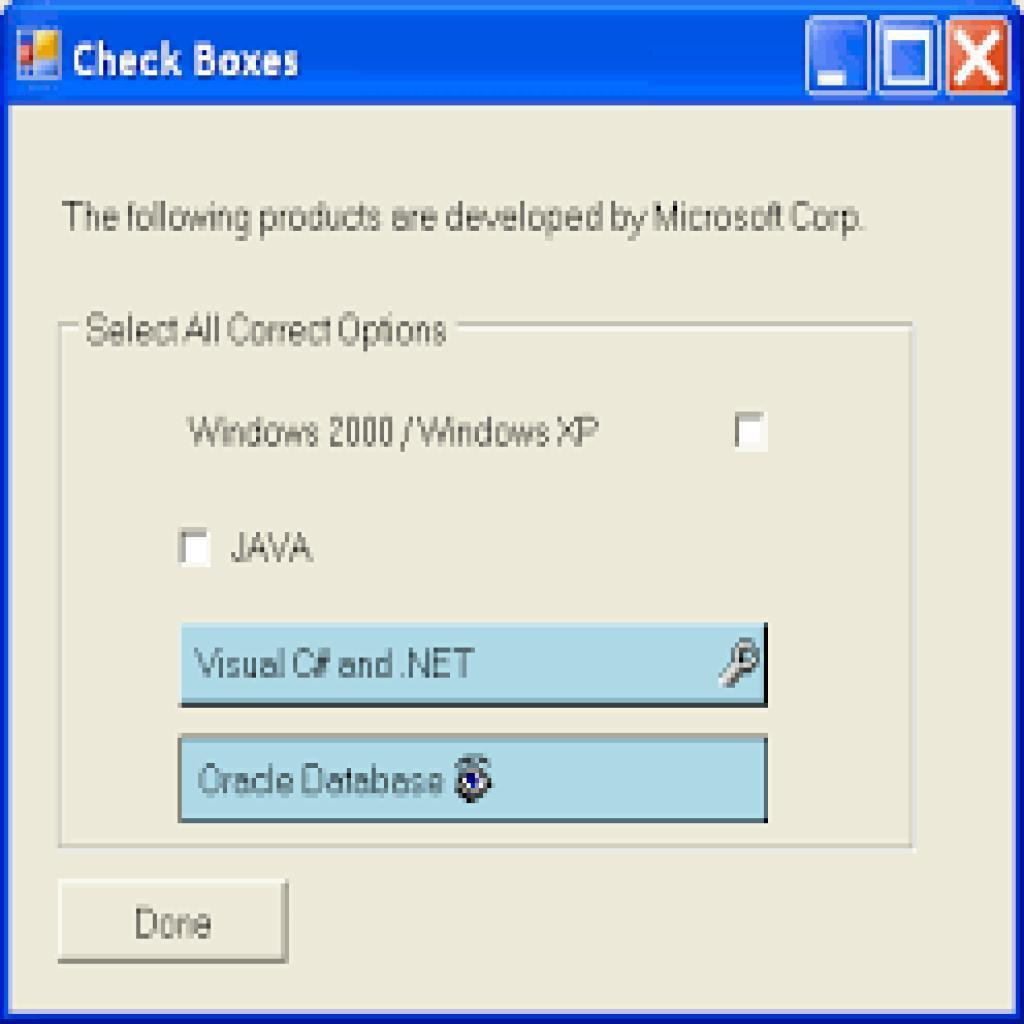button: (62, 878, 285, 960)
checkbox: (736, 414, 765, 451), (182, 532, 208, 567)
input: (180, 739, 768, 822), (183, 625, 765, 708)
label: (184, 404, 607, 458)
